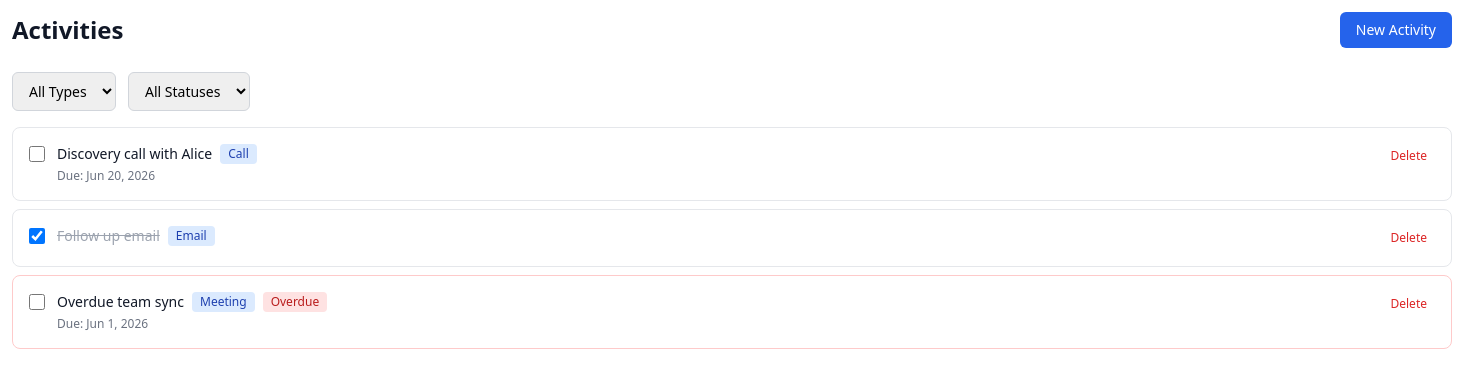
Test: ActivitiesPage — type filter › US3-AC1: filter by type shows only matching activities
Expected: the text "Discovery call with Alice" is shown, 57,144 -> 212,164
Select "Call" in the dropdown named "filter by type" at (64, 92), box 12,72 -> 116,111
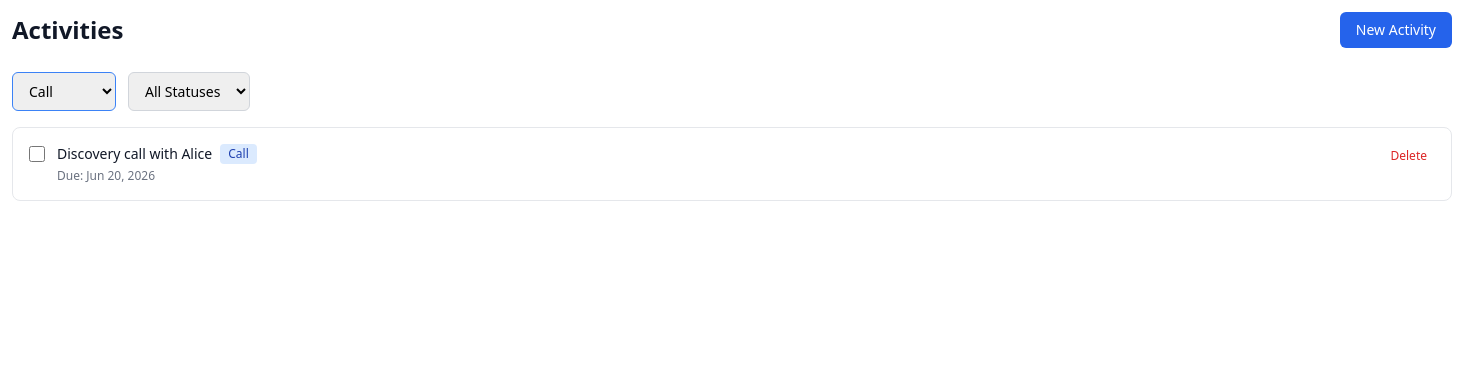
Expected: the text "Discovery call with Alice" is shown, 57,144 -> 212,164
Now the text "Follow up email" is gone
